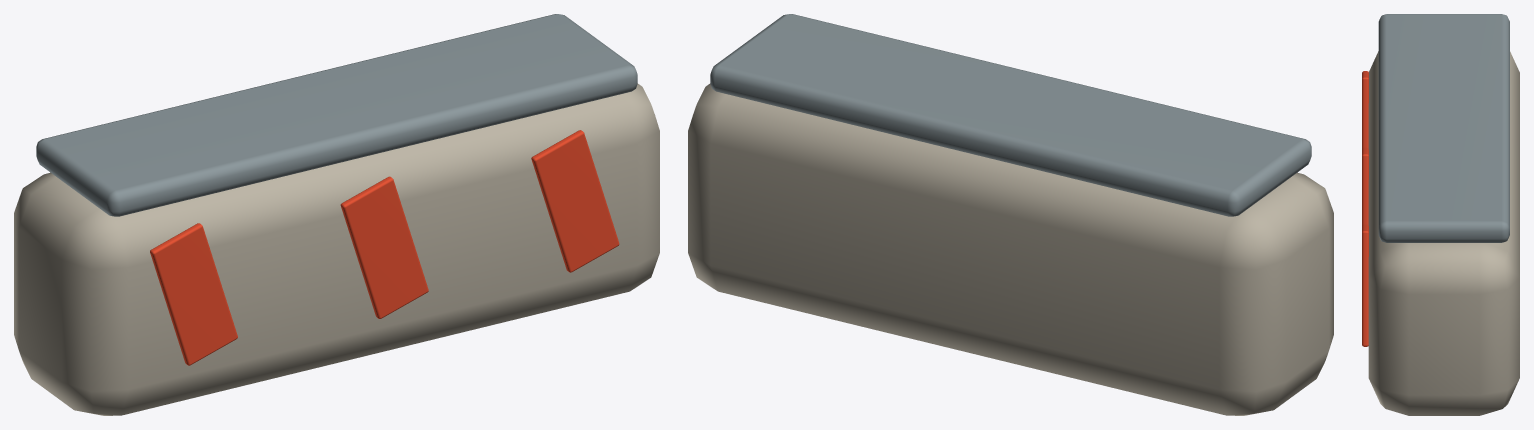
Rendered from road-barrier.glb.
3 renders of one model, left to right at view 1: azimuth 30°, elevation 25°; view 2: azimuth 150°, elevation 25°; view 3: azimuth 270°, elevation 25°, orthographic. The views are drawn at different scales.
Visible parts, largest first — view 1: NC mineral concrete.004, NC brushed titanium.010, NC vermilion.002; view 2: NC mineral concrete.004, NC brushed titanium.010; view 3: NC brushed titanium.010, NC mineral concrete.004, NC vermilion.002.
Part boxes in pixels (box(x1,y1,x2,y2)): NC mineral concrete.004: box(14, 83, 659, 415); NC brushed titanium.010: box(36, 14, 637, 216); NC vermilion.002: box(150, 130, 619, 365); NC mineral concrete.004: box(688, 83, 1333, 415); NC brushed titanium.010: box(710, 14, 1311, 216); NC brushed titanium.010: box(1378, 14, 1509, 242); NC mineral concrete.004: box(1368, 51, 1519, 415); NC vermilion.002: box(1362, 71, 1368, 346).
Bounding box in the file's own units: 2.8 × 1.06 × 0.7825.
